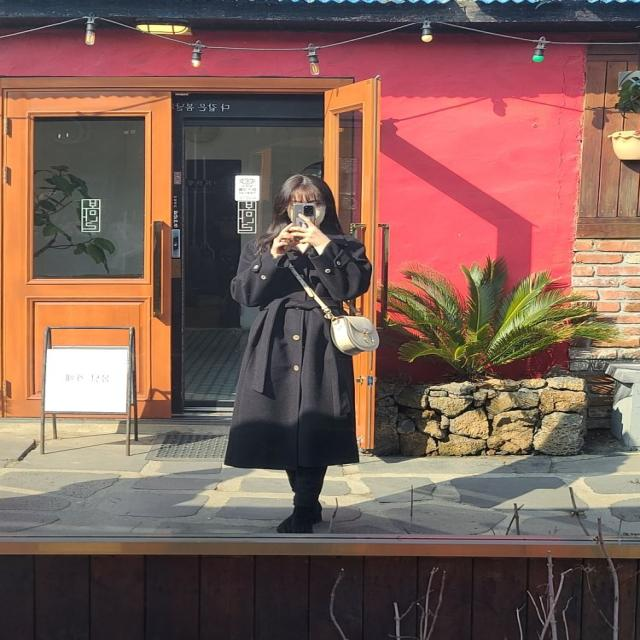coat: (227, 223, 373, 471)
